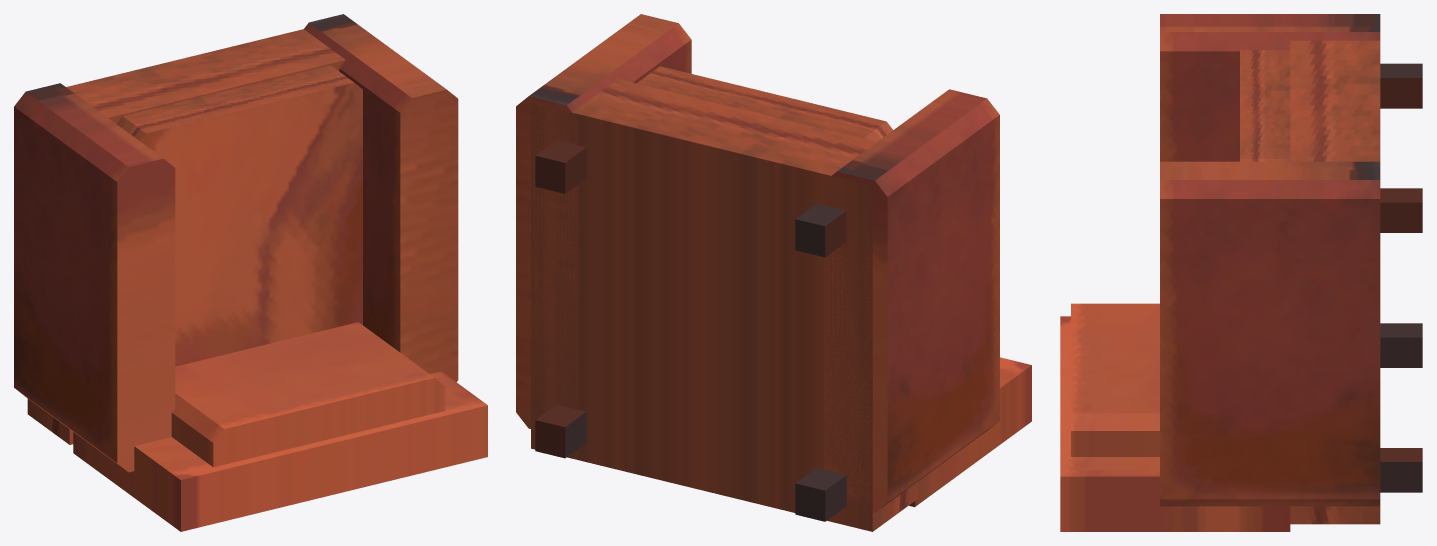
Rendered from pz_chair_seating_indoor_01_red_comfy.obj.
3 renders of one model, left to right at view 1: azimuth 30°, elevation 25°; view 2: azimuth 150°, elevation 25°; view 3: azimuth 270°, elevation 25°, orthographic. The views are drawn at different scales.
Visible parts, largest first — view 1: root; view 2: root; view 3: root.
Part boxes in pixels (left/top/right/bottom): root: left=14, top=14, right=487, bottom=531; root: left=516, top=14, right=1031, bottom=531; root: left=1060, top=14, right=1422, bottom=531.
Size of the model in its own units: 1 by 0.93 by 0.86.
Materials: 1 (1 with a texture image).
